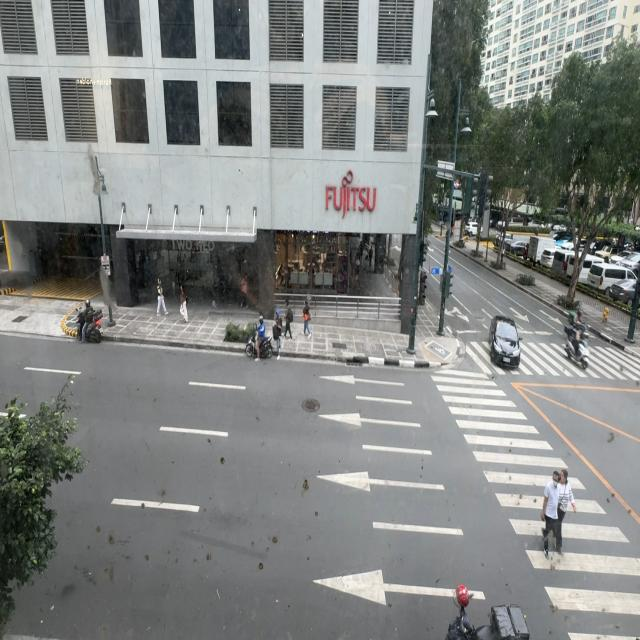crossing: (540, 466, 562, 566), (553, 466, 577, 552), (554, 468, 577, 552), (541, 469, 561, 558)
